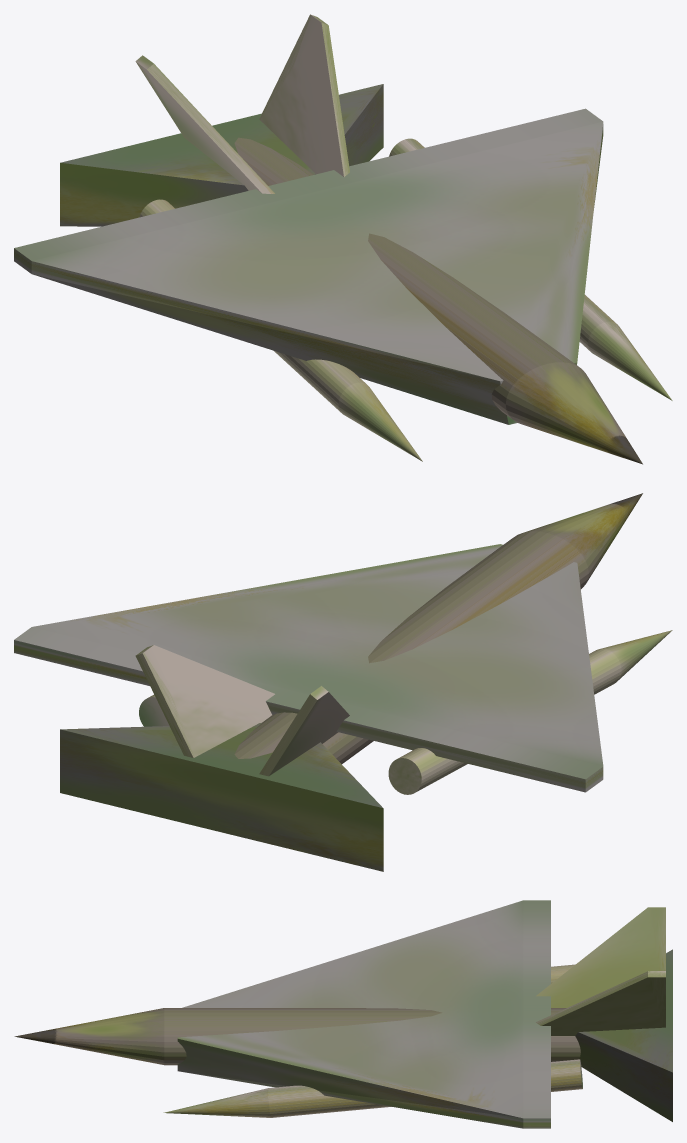
The model's file is jet.obj.
The picture shows the model from 3 angles, top to bottom: view 1: azimuth 30°, elevation 25°; view 2: azimuth 150°, elevation 25°; view 3: azimuth 270°, elevation 25°; orthographic projection. The views are drawn at different scales.
Visible parts, largest first — view 1: jet; view 2: jet; view 3: jet.
Boxes of the visible parts, box(x1,y1,x2,y2) form: jet: box(14, 14, 672, 464); jet: box(14, 493, 672, 871); jet: box(14, 900, 672, 1128).
Bounding box in the file's own units: 6.87 × 1.91 × 8.78.
Materials: 1 (1 with a texture image).
